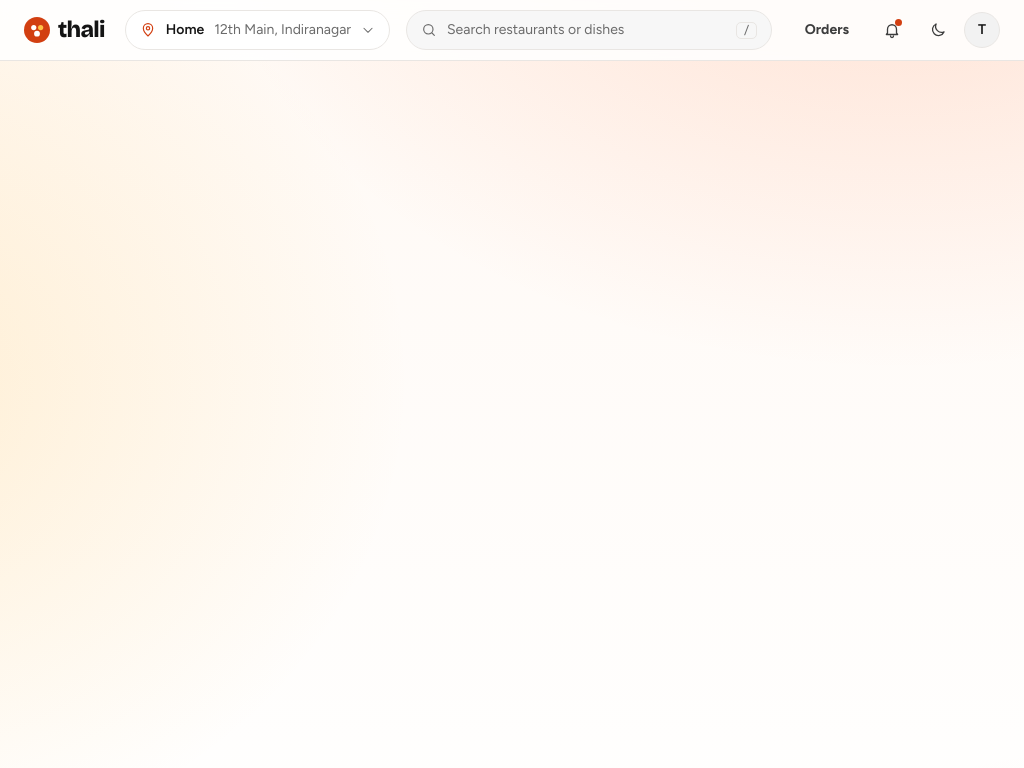
Scenario: Offers (MKT-7) and consumer chrome › header: bell announces the unread count; account menu has Addresses, Thali Plus and Support
Expected: the button with aria-label "Delivery location: Home, 12th Main, Indiranagar. Change" is shown, [125,10,390,50]
Click the button named "account menu". click: (982, 30)
box: [964,12,1000,48]
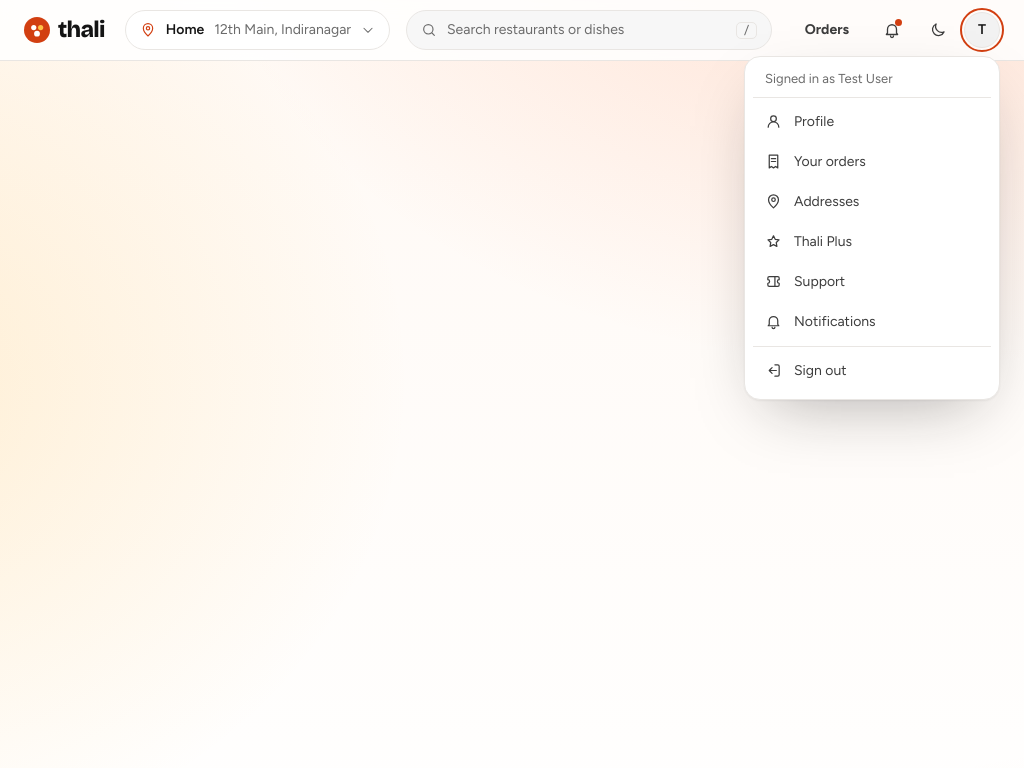
Expected: the link "Addresses" is shown, [765,192,859,210]
Expected: the link "Thali Plus" is shown, [765,232,852,250]
Expected: the link "Support" is shown, [765,272,845,290]
